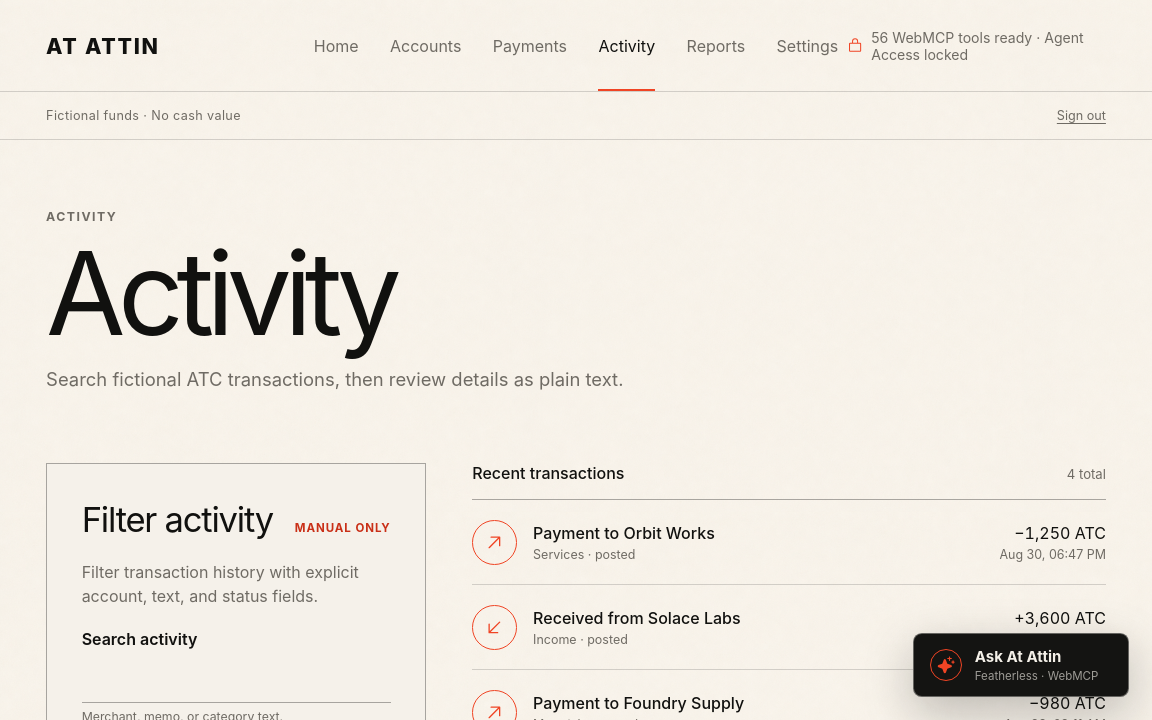
it: complete At Attin product experience › keeps manual activity filtering usable while Agent Access is locked
Type "Orbit" into the field labelled "Search activity" at x=236, y=679, box [82,655,391,703]
(page scrolled)
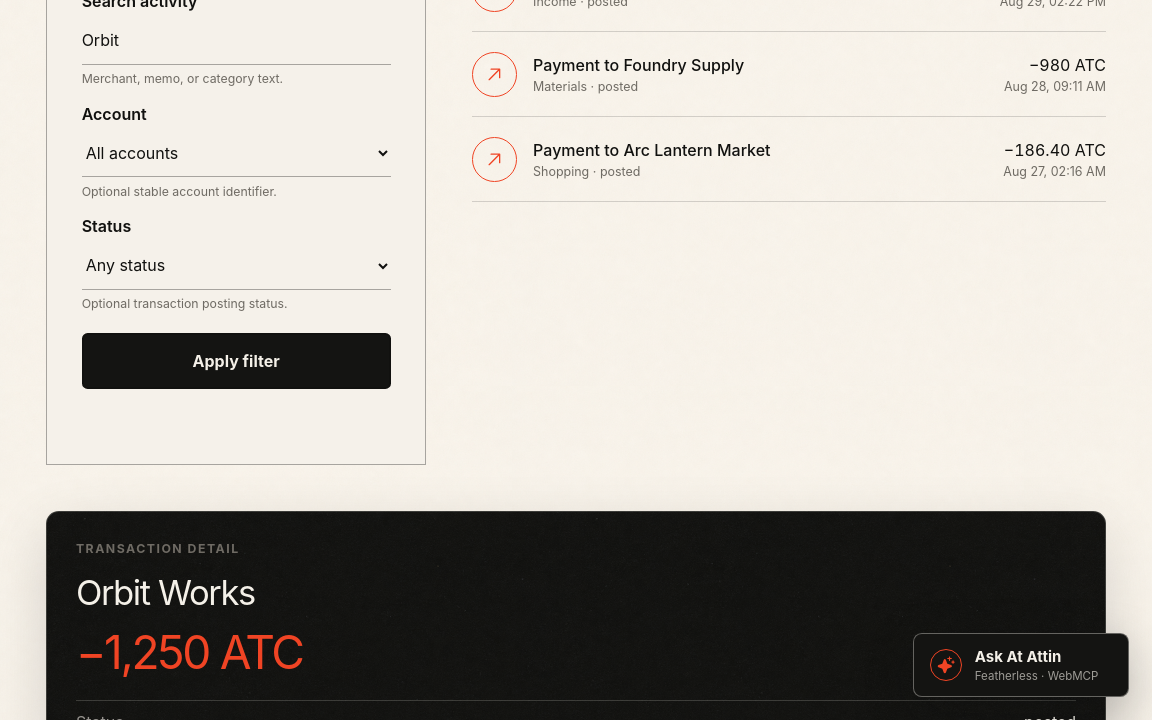
Click the button "Apply filter" at x=236, y=360, box [82,332,391,388]
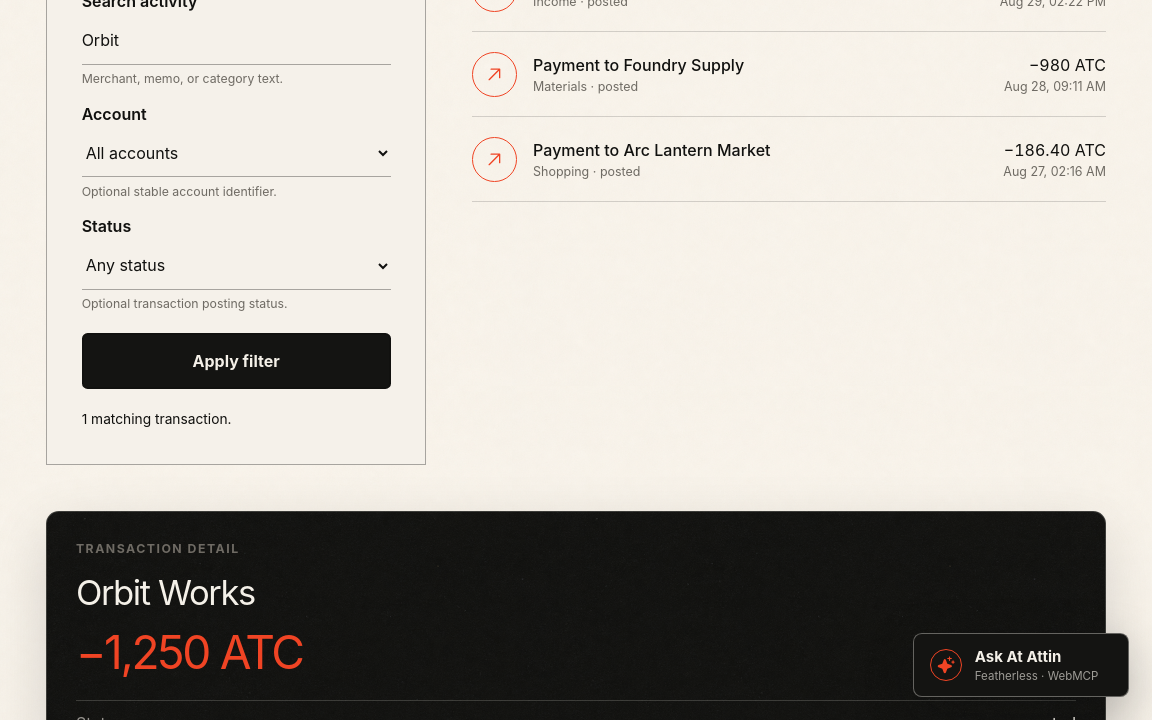
Expected: the text "1 matching transaction." is shown, [82,410,231,426]
